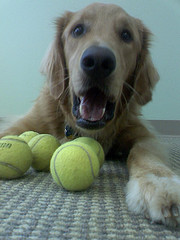tennis ball: (49, 141, 99, 193), (1, 134, 34, 182), (28, 133, 62, 173), (70, 136, 104, 169), (18, 129, 40, 141)
